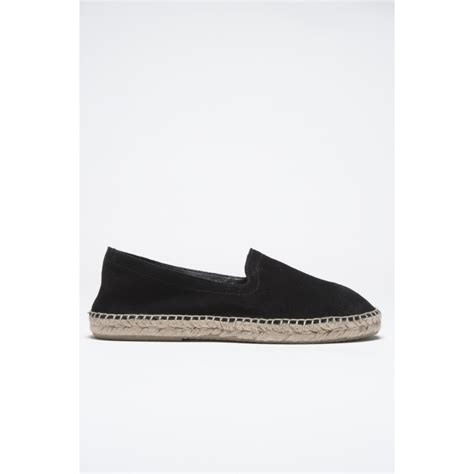gamuza: (91, 246, 377, 319)
